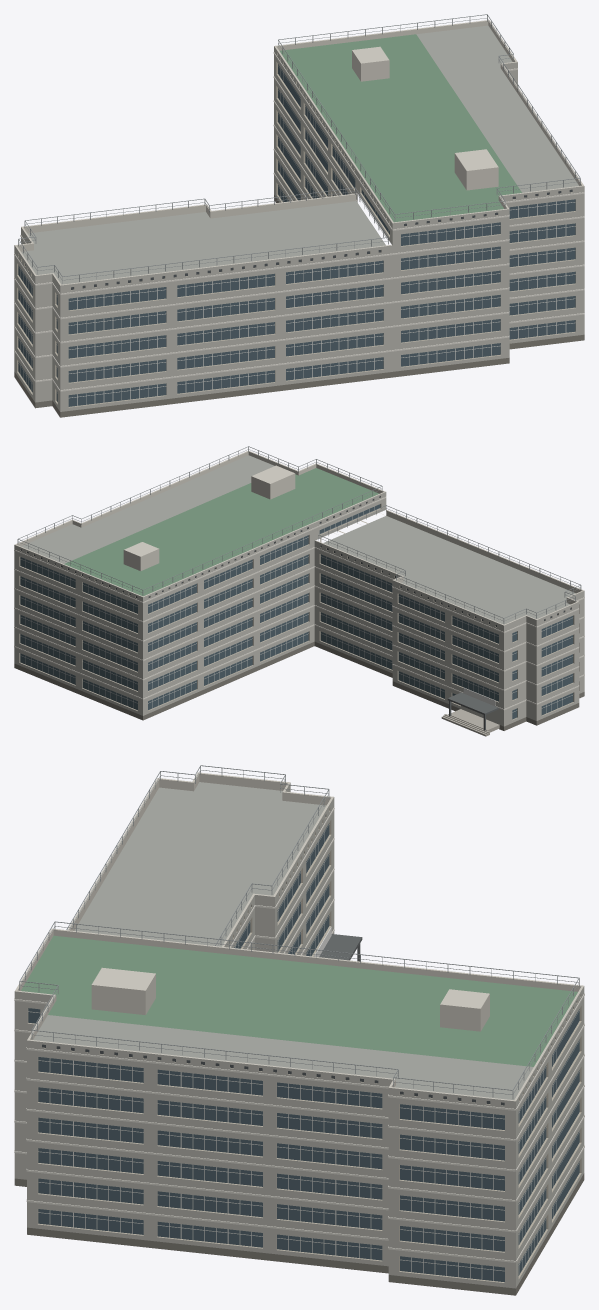
3 views of the same model, one above another, from view 1: azimuth 30°, elevation 25°; view 2: azimuth 150°, elevation 25°; view 3: azimuth 270°, elevation 25° (orthographic). The views are drawn at different scales.
Parts seen in each view (by area): view 1: wing1__wall-plaster, wing1__glass, wing1__roof, wing1__roof-green, wing1__parapet-concrete, wing1__ledge-concrete, wing1__frame, wing1__reveal-concrete, wing1__railing, wing1__base-stone, wing1__vent-glass; view 2: wing1__wall-plaster, wing1__glass, wing1__roof, wing1__roof-green, wing1__ledge-concrete, wing1__parapet-concrete, wing1__frame, wing1__reveal-concrete, wing1__railing, wing1__base-stone, wing1__step-stone, wing1__canopy-concrete (+1 smaller); view 3: wing1__wall-plaster, wing1__glass, wing1__roof, wing1__roof-green, wing1__parapet-concrete, wing1__ledge-concrete, wing1__frame, wing1__reveal-concrete, wing1__railing, wing1__base-stone, wing1__canopy-concrete.
Boxes of the visible parts, x1,y1,x2,y2 form: wing1__wall-plaster: [14, 46, 584, 411]; wing1__glass: [18, 64, 575, 406]; wing1__roof: [21, 25, 578, 284]; wing1__roof-green: [279, 34, 521, 222]; wing1__parapet-concrete: [14, 20, 583, 285]; wing1__ledge-concrete: [14, 52, 584, 391]; wing1__frame: [18, 65, 575, 405]; wing1__reveal-concrete: [17, 53, 575, 407]; wing1__railing: [18, 14, 580, 283]; wing1__base-stone: [14, 195, 584, 417]; wing1__vent-glass: [18, 58, 572, 289]; wing1__wall-plaster: [14, 492, 584, 726]; wing1__glass: [20, 504, 573, 719]; wing1__roof: [21, 455, 575, 624]; wing1__roof-green: [64, 468, 379, 596]; wing1__ledge-concrete: [14, 497, 584, 710]; wing1__parapet-concrete: [15, 451, 584, 625]; wing1__frame: [20, 506, 572, 713]; wing1__reveal-concrete: [19, 496, 579, 720]; wing1__railing: [17, 446, 581, 623]; wing1__base-stone: [14, 641, 584, 730]; wing1__step-stone: [441, 709, 499, 736]; wing1__canopy-concrete: [447, 692, 498, 730]; wing1__wall-plaster: [14, 783, 584, 1288]; wing1__glass: [28, 823, 579, 1282]; wing1__roof: [33, 782, 533, 1099]; wing1__roof-green: [21, 935, 577, 1066]; wing1__parapet-concrete: [15, 772, 583, 1101]; wing1__ledge-concrete: [14, 807, 584, 1262]; wing1__frame: [28, 824, 579, 1280]; wing1__reveal-concrete: [27, 807, 581, 1282]; wing1__railing: [19, 765, 579, 1098]; wing1__base-stone: [14, 1173, 584, 1295]; wing1__canopy-concrete: [319, 934, 362, 961].
Bounding box in the file's own units: 90.75 × 25.2 × 61.26.
